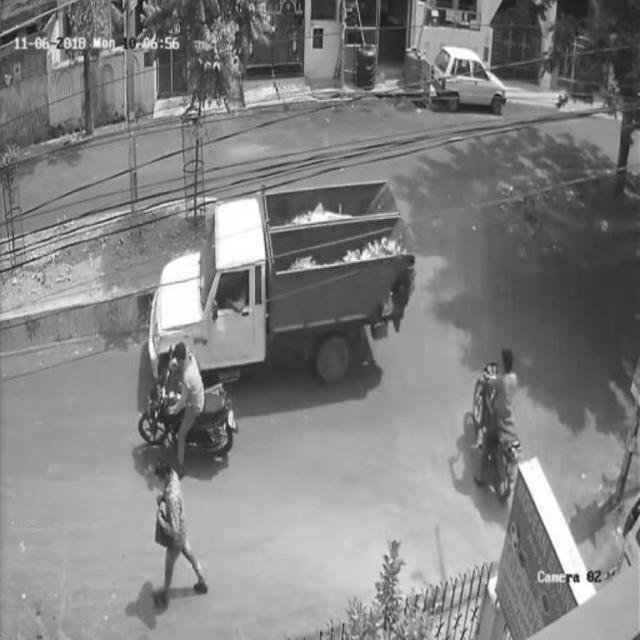person: (147, 444, 211, 616)
vehicle: (151, 180, 411, 377), (140, 342, 238, 466), (473, 344, 524, 512), (427, 43, 505, 116)
